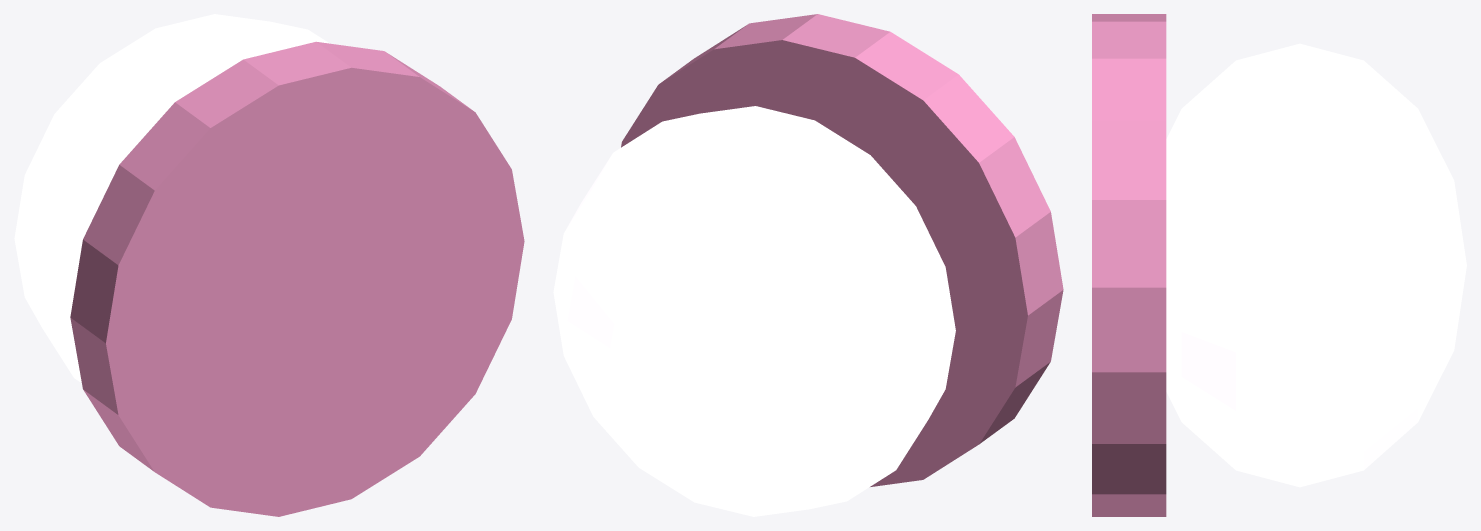
Rendered from Bumper.glb.
3 renders of one model, left to right at view 1: azimuth 30°, elevation 25°; view 2: azimuth 150°, elevation 25°; view 3: azimuth 270°, elevation 25°, orthographic. The views are drawn at different scales.
Visible parts, largest first — view 1: Bumper_base, Bumper_cushion; view 2: Bumper_cushion, Bumper_base; view 3: Bumper_cushion, Bumper_base.
Part boxes in pixels (x1,y1,x2,y2): Bumper_base: (70,41,524,516); Bumper_cushion: (14,14,329,382); Bumper_cushion: (553,106,955,516); Bumper_base: (621,14,1063,486); Bumper_cushion: (1166,43,1466,487); Bumper_base: (1092,14,1166,516).
Bounding box in the file's own units: 0.68 × 0.6697 × 0.505.
